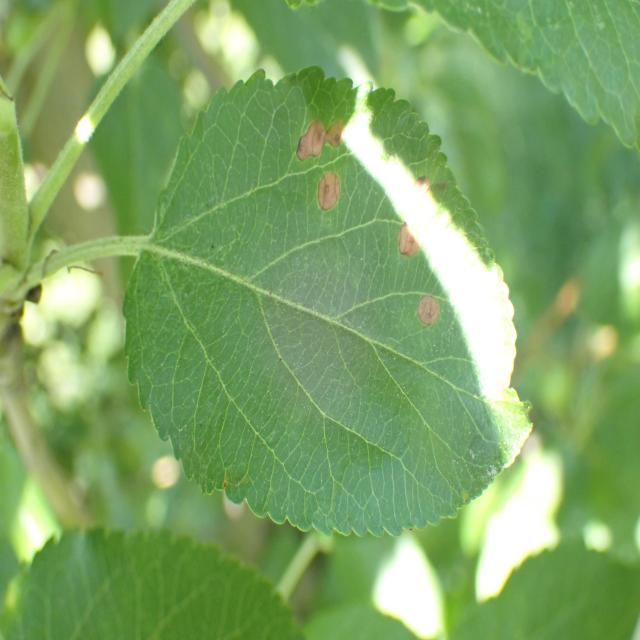Black Rot: (292, 99, 358, 170), (305, 152, 349, 228), (391, 210, 423, 258), (410, 287, 442, 332), (412, 170, 432, 198)
